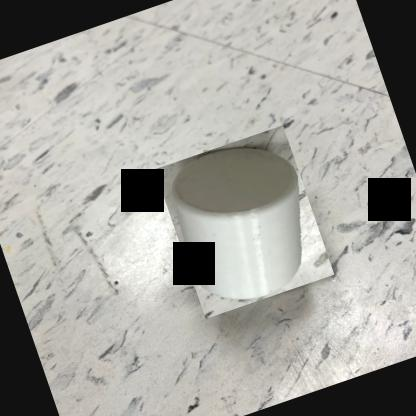white cylinder: (154, 126, 334, 320)
